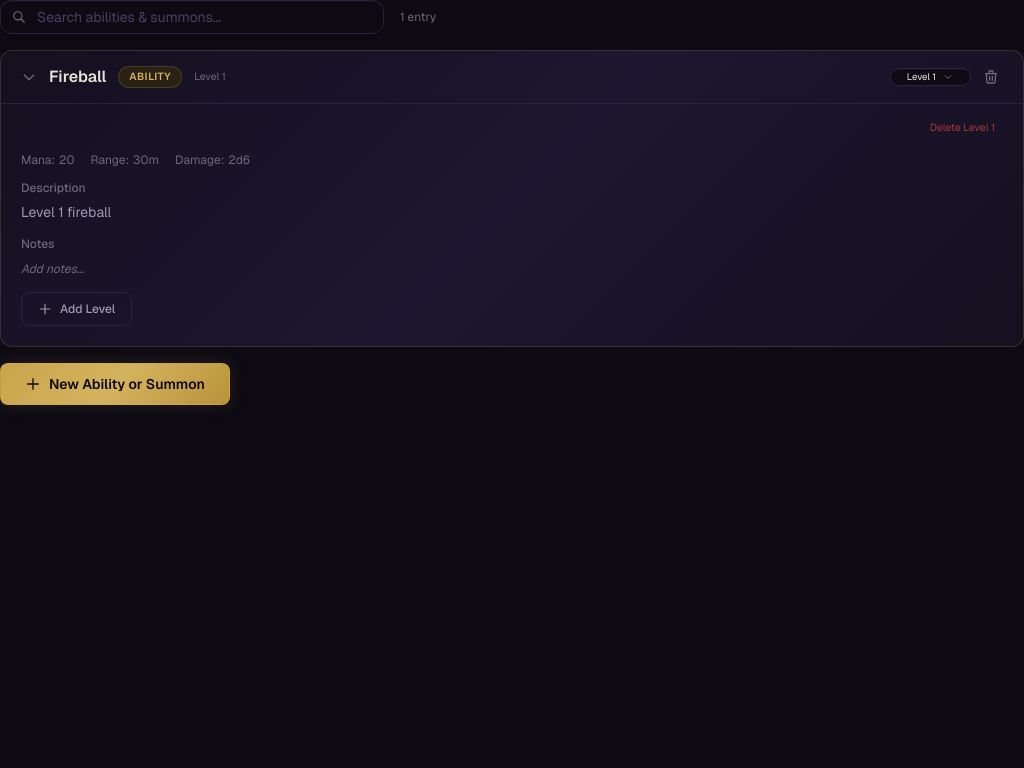
Scenario: AbilitiesTab › opens delete level confirmation when Delete Level is clicked
Step 1. Click the button "Delete Level 1" → (962, 128), box [922,116,1003,140]
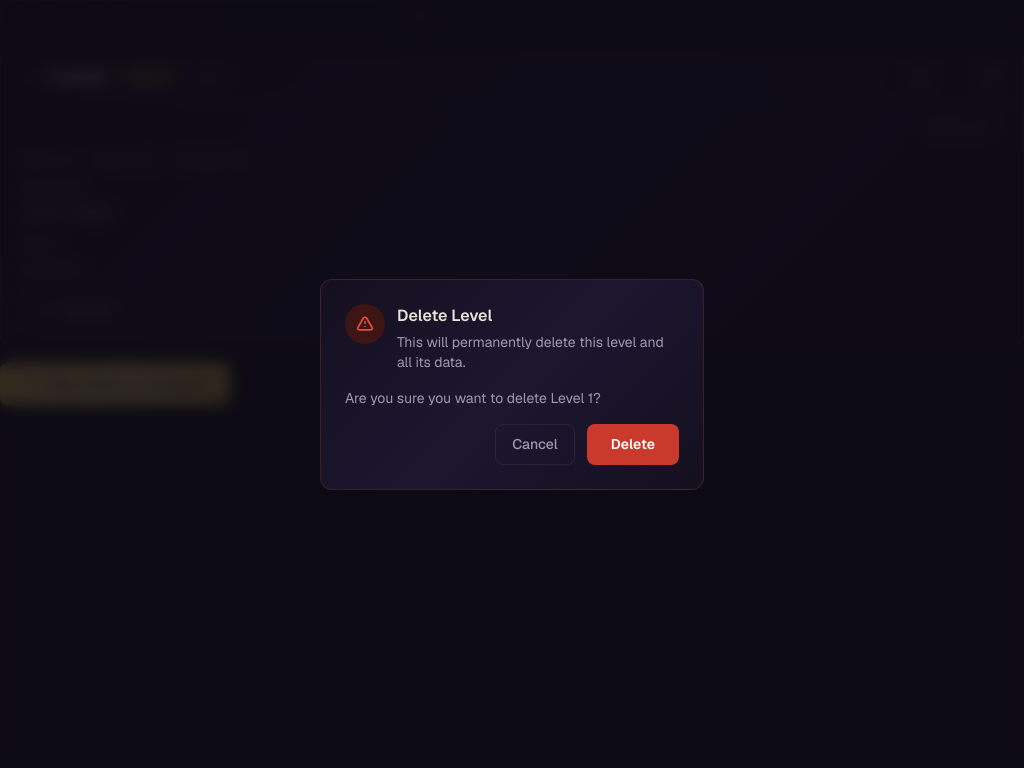
Check: the heading "Delete Level" is shown, box [397,304,492,326]
